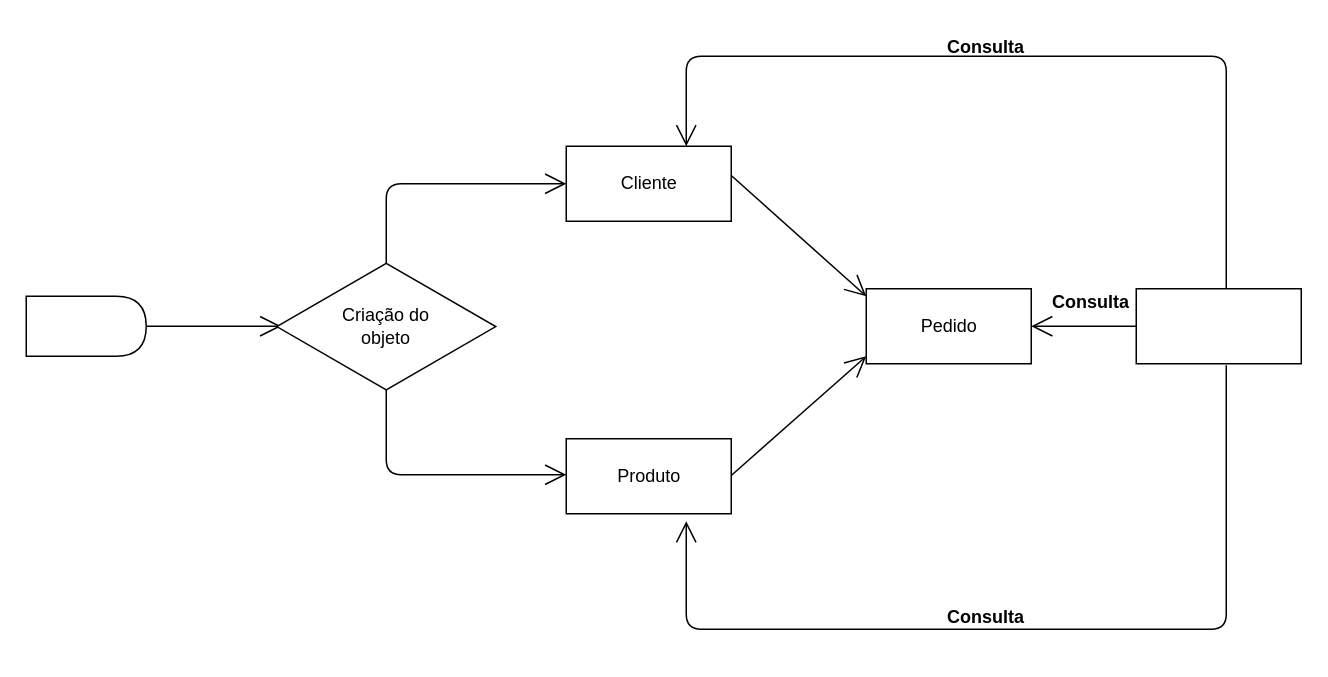
This 1328x677 diagram has some shape labels left out. The shapes that lost their labels are listed below. From the top down, each one's box as (x1, y1, x2, y2) in pixels, then its label:
(25, 295, 146, 356): Start
(1135, 287, 1301, 364): Histórico
